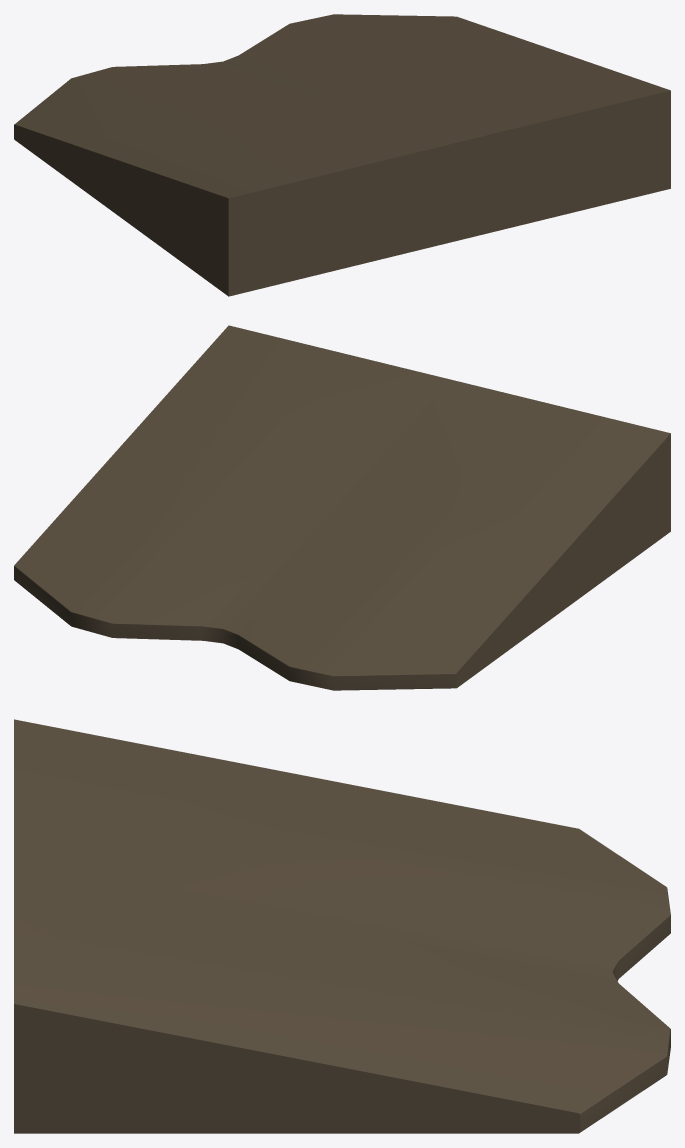
The model's file is Ground1.fbx.
3 renders of one model, top to bottom at view 1: azimuth 30°, elevation 25°; view 2: azimuth 150°, elevation 25°; view 3: azimuth 270°, elevation 25°, orthographic. The views are drawn at different scales.
Visible parts, largest first — view 1: pCube8; view 2: pCube8; view 3: pCube8.
Part boxes in pixels (x1=…): pCube8: x1=14, y1=14, x2=670, y2=296; pCube8: x1=14, y1=325, x2=670, y2=690; pCube8: x1=14, y1=719, x2=670, y2=1133.
Size of the model in its own units: 5.24 by 1.11 by 5.12.
